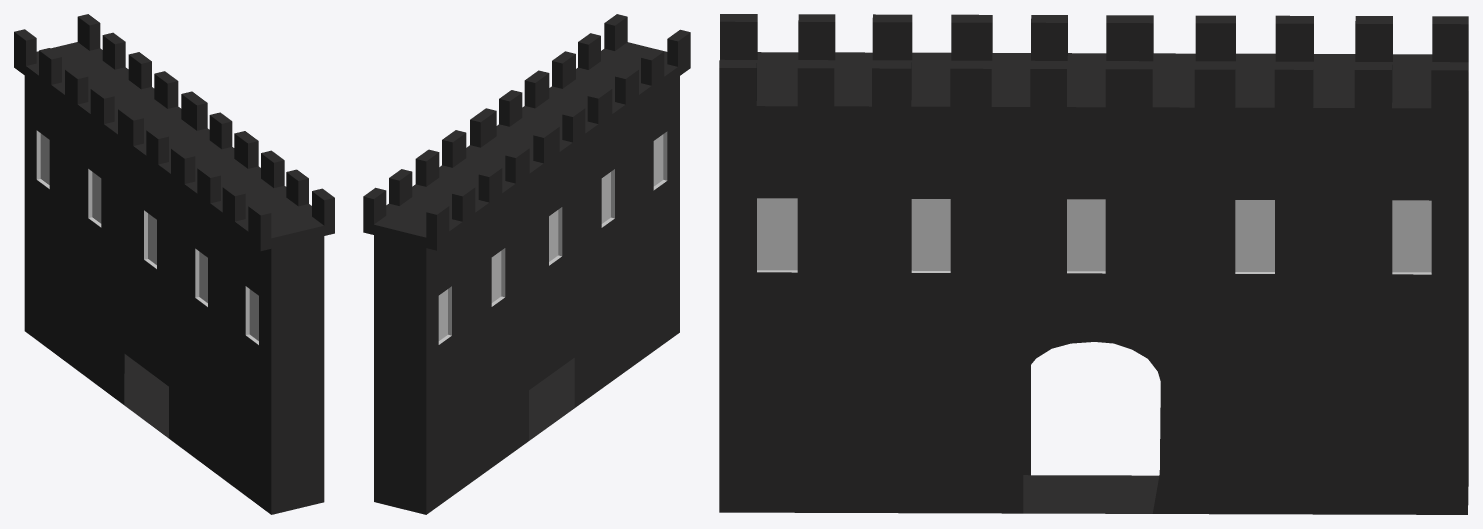
The model's file is castle wall_around_door.fbx.
3 renders of one model, left to right at view 1: azimuth 30°, elevation 25°; view 2: azimuth 150°, elevation 25°; view 3: azimuth 270°, elevation 25°, orthographic. The views are drawn at different scales.
Visible parts, largest first — view 1: castle_wall; view 2: castle_wall; view 3: castle_wall.
Boxes of the visible parts, bbox=[...] form: castle_wall: bbox=[14, 14, 334, 514]; castle_wall: bbox=[363, 14, 690, 514]; castle_wall: bbox=[719, 14, 1468, 514].
Size of the model in its own units: 494 by 1848 by 2776.
